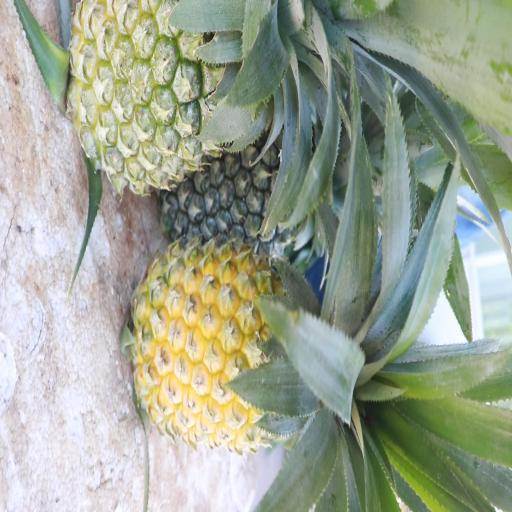------------------------------: (69, 0, 290, 187)
Pineapple - v8 v1: (131, 245, 371, 449)
